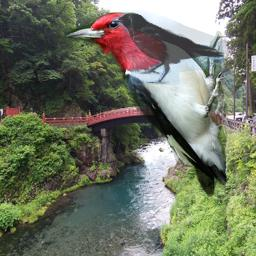Crow: (112, 10, 226, 85)
Woodpecker: (61, 12, 236, 197)
